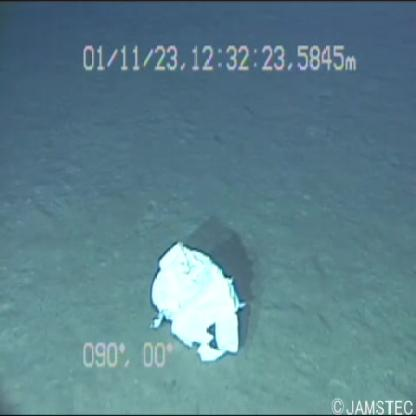Rác: (138, 235, 253, 364)
